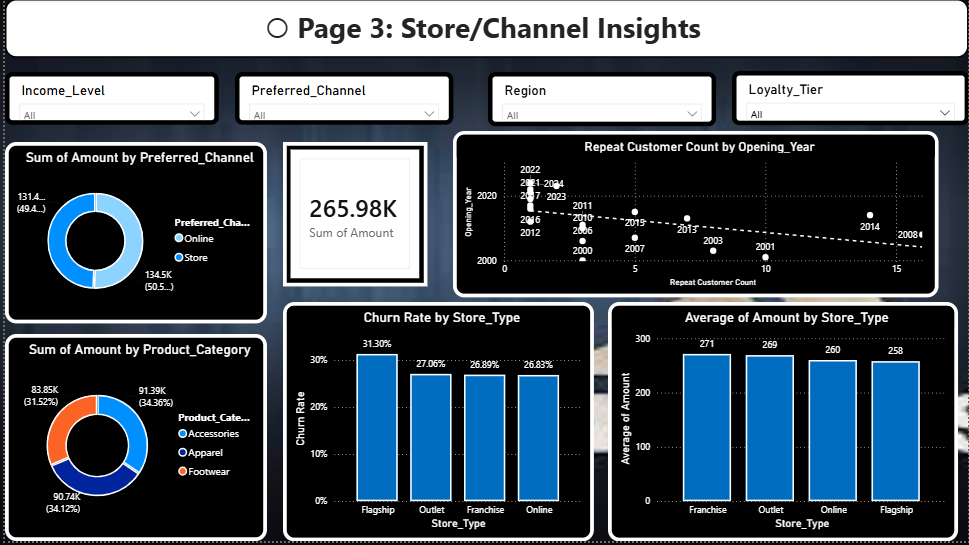

Layout of this report page (visuals, bound fields, positions):
{"tool":"powerbi","page":{"name":"Task-7(3)","canvas":[1280,720],"ordinal":11},"visuals":[{"type":"donutChart","fields":{"Category":["Customer_Demographics.Preferred_Channel"],"Y":["Sum(Customer_Transactions.Amount)"]},"box":[0,190.2,348.3,241.5],"z":0},{"type":"donutChart","fields":{"Category":["Customer_Transactions.Product_Category"],"Y":["Sum(Customer_Transactions.Amount)"]},"box":[0,444.9,348.3,275.1],"z":1000},{"type":"clusteredColumnChart","fields":{"Category":["Store_Locations.Store_Type"],"Y":["Measure.Churn Rate"]},"box":[368.8,402.4,412.7,317.6],"z":2000},{"type":"clusteredColumnChart","fields":{"Category":["Store_Locations.Store_Type"],"Y":["Avg(Customer_Transactions.Amount)"]},"box":[800.5,402.4,465.4,317.6],"z":3000},{"type":"textbox","box":[0,0,1280.5,77.6],"z":4000},{"type":"cardVisual","fields":{"Data":["Sum(Customer_Transactions.Amount)"]},"box":[368.8,190.2,191.7,191.7],"z":5000},{"type":"scatterChart","fields":{"X":["Measure.Repeat Customer Count"],"Y":["Store_Locations.Opening_Year"]},"box":[595.6,175.6,645.4,221],"z":6000},{"type":"slicer","fields":{"Values":["Customer_Demographics.Income_Level"]},"box":[0,96.6,283.9,70.2],"z":7000},{"type":"slicer","fields":{"Values":["Customer_Demographics.Preferred_Channel"]},"box":[305.9,96.6,289.8,70.2],"z":8000},{"type":"slicer","fields":{"Values":["Customer_Demographics.Region"]},"box":[641,96.6,302.9,71.7],"z":9000},{"type":"slicer","fields":{"Values":["Loyalty_Program.Loyalty_Tier"]},"box":[965.9,95.1,314.6,71.7],"z":10000}]}

Visuals, with their boxes in screenshot pixels (x1, y1, x2, y2), scaled from the page's 1280x720 canvas onto the 969x545 screenshot:
donutChart - Customer_Demographics.Preferred_Channel x Sum(Customer_Transactions.Amount): 0, 144, 264, 327
donutChart - Customer_Transactions.Product_Category x Sum(Customer_Transactions.Amount): 0, 337, 264, 544
clusteredColumnChart - Store_Locations.Store_Type x Measure.Churn Rate: 279, 305, 592, 544
clusteredColumnChart - Store_Locations.Store_Type x Avg(Customer_Transactions.Amount): 606, 305, 958, 544
textbox: 0, 0, 968, 59
cardVisual - Sum(Customer_Transactions.Amount): 279, 144, 424, 289
scatterChart - Measure.Repeat Customer Count x Store_Locations.Opening_Year: 451, 133, 939, 300
slicer - Customer_Demographics.Income_Level: 0, 73, 215, 126
slicer - Customer_Demographics.Preferred_Channel: 232, 73, 451, 126
slicer - Customer_Demographics.Region: 485, 73, 715, 127
slicer - Loyalty_Program.Loyalty_Tier: 731, 72, 968, 126
